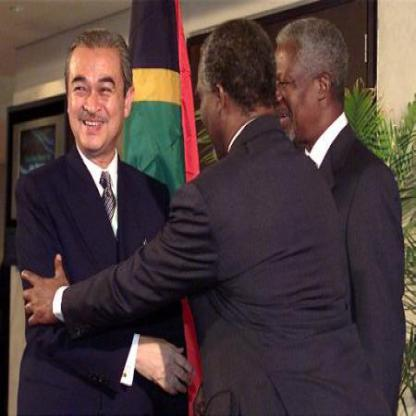face: (66, 30, 128, 155), (266, 28, 320, 145)
